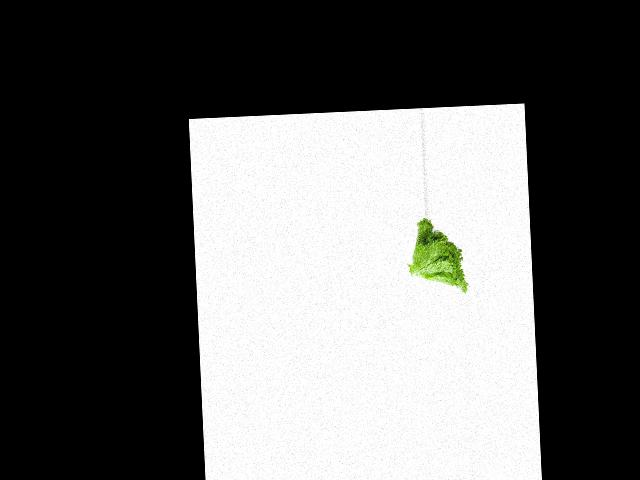lettuce: (407, 215, 470, 296)
